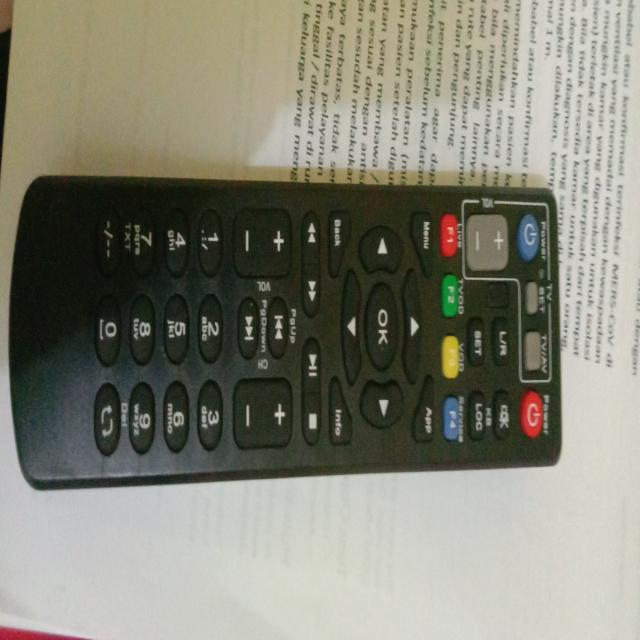remote: (8, 174, 563, 490)
